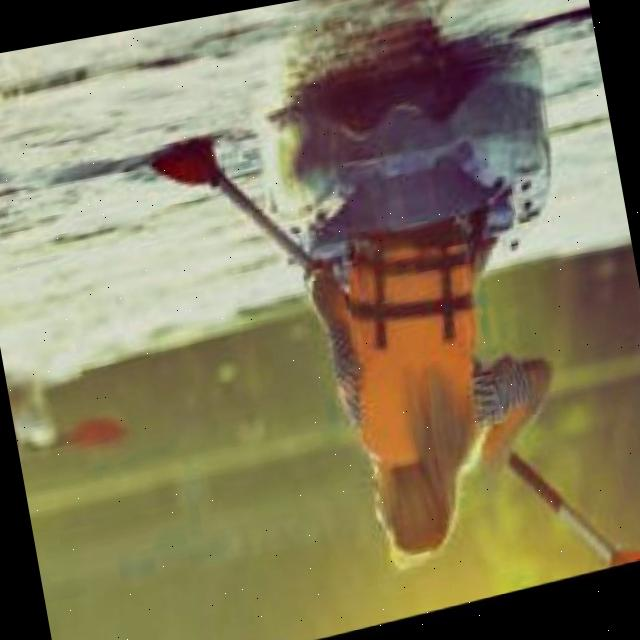kayak: (152, 49, 550, 274)
